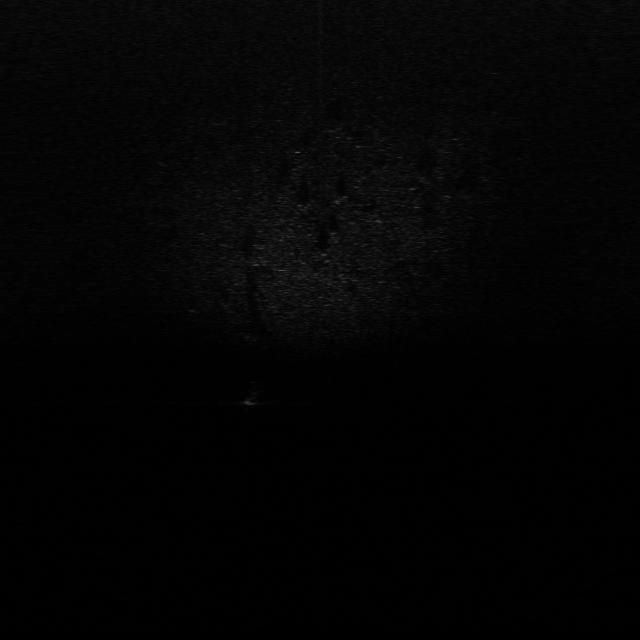human body: (234, 378, 272, 414)
